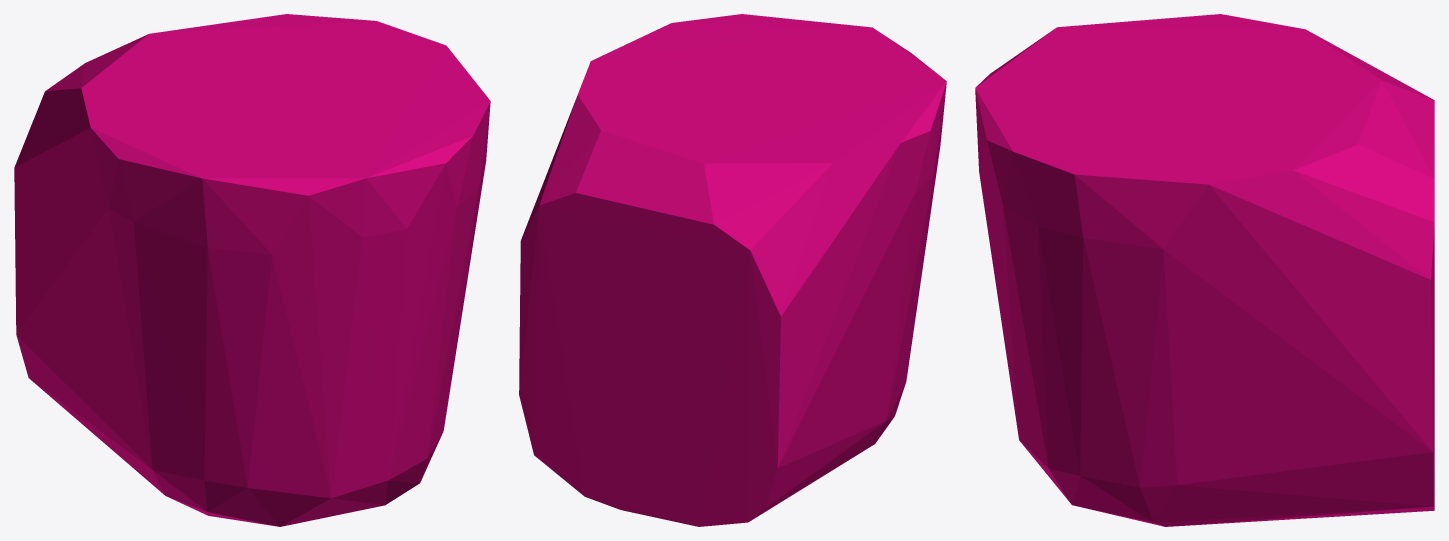
File: arm-L3-mirror_convex_piece_000.obj
3 views of the same model, side by side, from view 1: azimuth 30°, elevation 25°; view 2: azimuth 150°, elevation 25°; view 3: azimuth 270°, elevation 25° (orthographic). The views are drawn at different scales.
Size of the model in its own units: 0.0745 by 0.078 by 0.0836.
